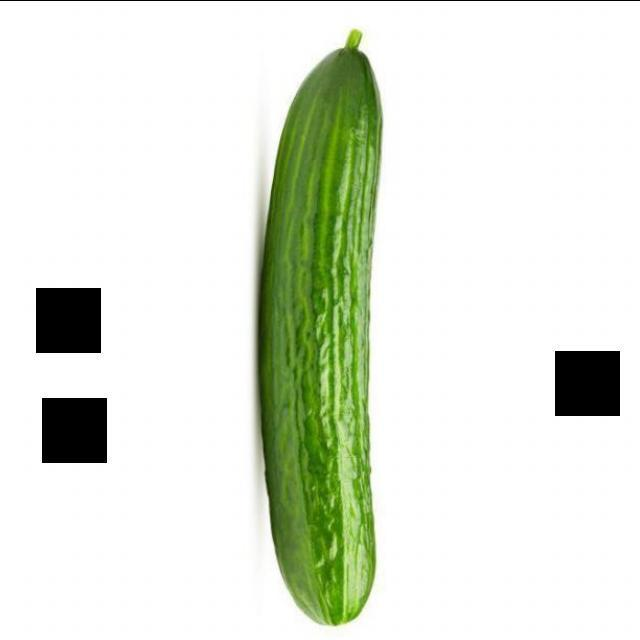cucumber: (255, 17, 385, 629)
